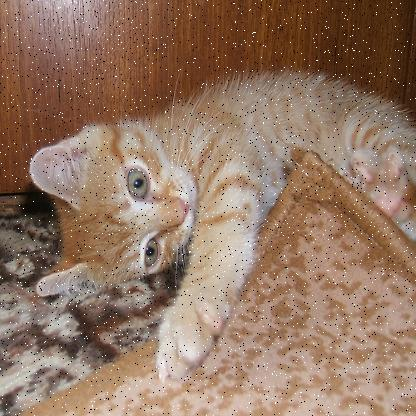cat: (31, 64, 415, 361)
